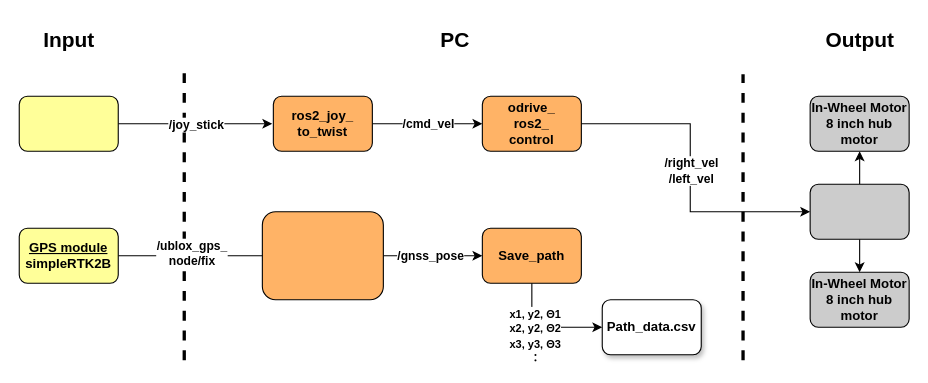
The diagram is 928 pixels wide and 383 high, and some of its shapes have lost their labels. The shapes that lost their labels are listed below. From the top down, each one's centre as x and y in pixels, then its label:
(68,123): PS4 Controller
(859,211): Motor Driver ODrive V3.6
(322,255): gnss_ preprocesssing_ ros2
